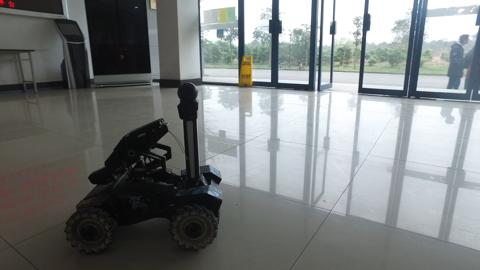chariot: (60, 77, 232, 258)
